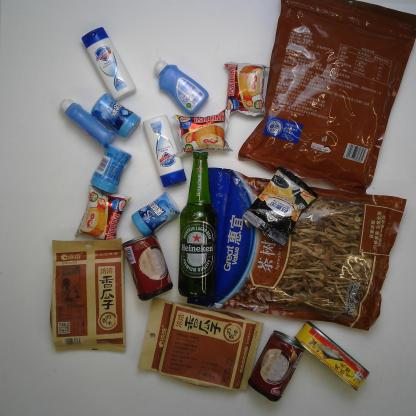Alcohol: (178, 149, 218, 299)
Canned Food: (294, 321, 371, 392), (247, 331, 306, 403), (122, 232, 174, 302)
Dessert: (223, 60, 270, 119), (172, 109, 232, 154), (77, 190, 130, 240)
Dried Food: (186, 165, 406, 333), (238, 0, 416, 194), (138, 296, 265, 392), (48, 238, 128, 355)
Gum: (132, 192, 180, 240), (91, 95, 141, 138), (90, 146, 132, 195)
Instant Drink: (243, 166, 318, 244)
Personal Hygiene: (81, 27, 137, 102), (142, 113, 187, 187), (153, 57, 209, 115), (60, 99, 116, 146)
